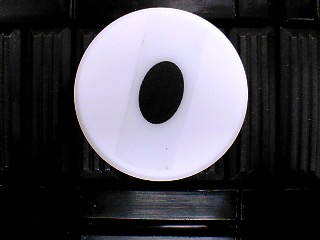BOHOEL: (72, 6, 248, 182)
